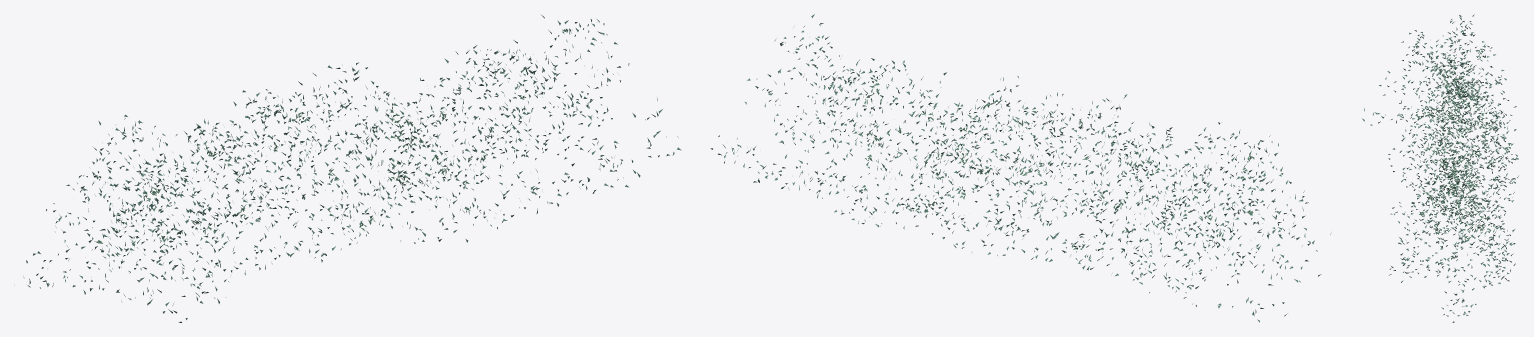
File: xiyuan-vegetation-28-far.glb
3 views of the same model, side by side, from view 1: azimuth 30°, elevation 25°; view 2: azimuth 150°, elevation 25°; view 3: azimuth 270°, elevation 25° (orthographic). The views are drawn at different scales.
Visible parts, largest first — view 1: vegetation cedar leaves.003; view 2: vegetation cedar leaves.003; view 3: vegetation cedar leaves.003.
Boxes of the visible parts, <box> form: vegetation cedar leaves.003: <box>14,15,681,322</box>; vegetation cedar leaves.003: <box>710,14,1330,322</box>; vegetation cedar leaves.003: <box>1362,14,1518,322</box>.
Bounding box in the file's own units: 38.48 × 10.53 × 11.52.
